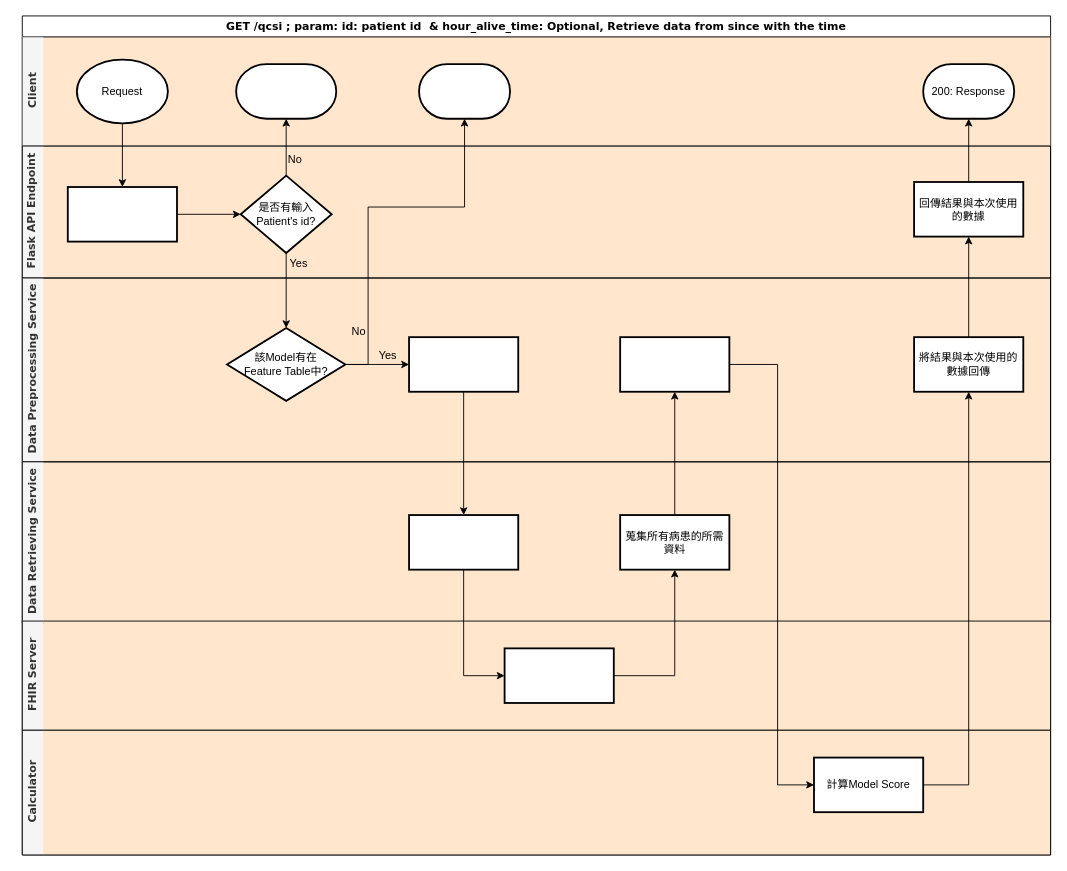
This 1067x871 diagram has some shape labels left out. Each missing label, with the centre of its shape:
"400: Bad Request" belongs at point 286,91.
"500: Model not in feature table" belongs at point 464,91.
"取得病患資料" belongs at point 463,542.
"回傳病患資料" belongs at point 558,675.
"將資料轉換成Model適用的格式" belongs at point 674,364.
"搜尋Model所需要的各 個Features" belongs at point 463,364.
"發送取得病患Model Score的請求" belongs at point 121,214.
